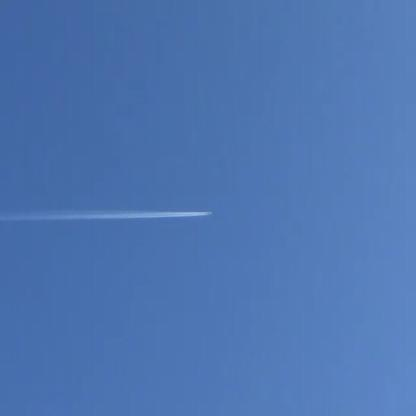CIV_Plane: (204, 208, 216, 224)
